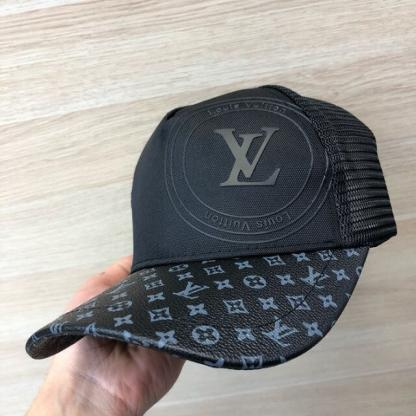cap: (27, 82, 396, 376)
